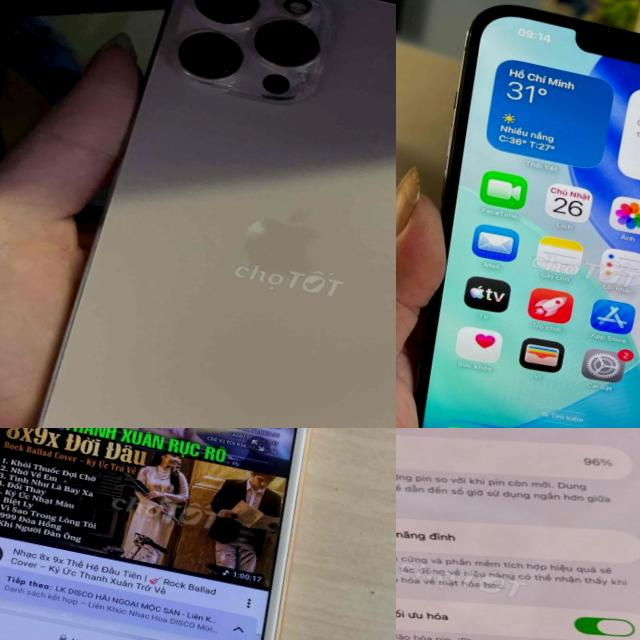gen_12_13: (13, 0, 396, 428), (396, 0, 640, 428)
gen_14: (396, 428, 640, 640)
gen_6: (0, 428, 310, 640)
